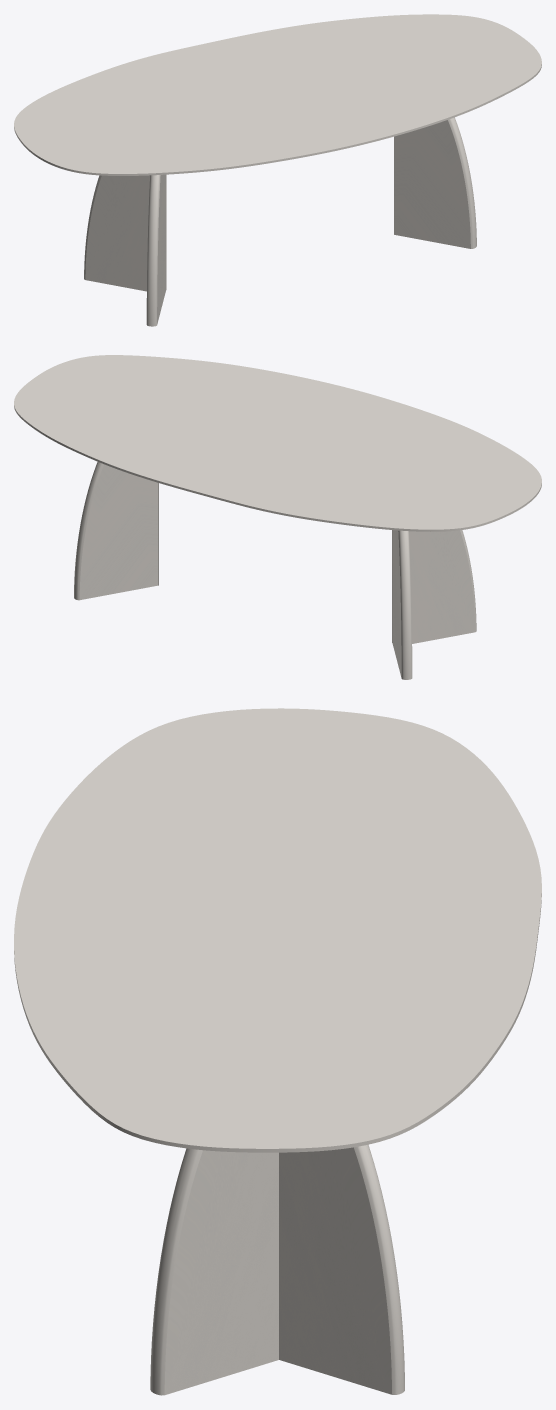
Rendered from pearlwhite_danish_facet_newtable2.glb.
The picture shows the model from 3 angles, top to bottom: view 1: azimuth 30°, elevation 25°; view 2: azimuth 150°, elevation 25°; view 3: azimuth 270°, elevation 25°; orthographic projection. The views are drawn at different scales.
Visible parts, largest first — view 1: facet_danish, newtable2_singleright2, newtable2_singleleft1, newtable2_singleright1; view 2: facet_danish, newtable2_singleleft2, newtable2_singleright1, newtable2_singleleft1; view 3: facet_danish, newtable2_singleright2, newtable2_singleleft2.
Part boxes in pixels (box(x1,y1,x2,y2)): facet_danish: box(14, 14, 541, 175); newtable2_singleright2: box(394, 117, 476, 248); newtable2_singleleft1: box(84, 174, 166, 291); newtable2_singleright1: box(146, 174, 165, 326); facet_danish: box(14, 355, 541, 531); newtable2_singleleft2: box(74, 462, 158, 600); newtable2_singleright1: box(392, 530, 476, 643); newtable2_singleleft1: box(392, 530, 412, 679); facet_danish: box(14, 708, 541, 1152); newtable2_singleright2: box(150, 1148, 278, 1395); newtable2_singleleft2: box(279, 1144, 404, 1394).
Bounding box in the file's own units: 7.5 × 2.49 × 3.8.
1 material, 1 textured.
